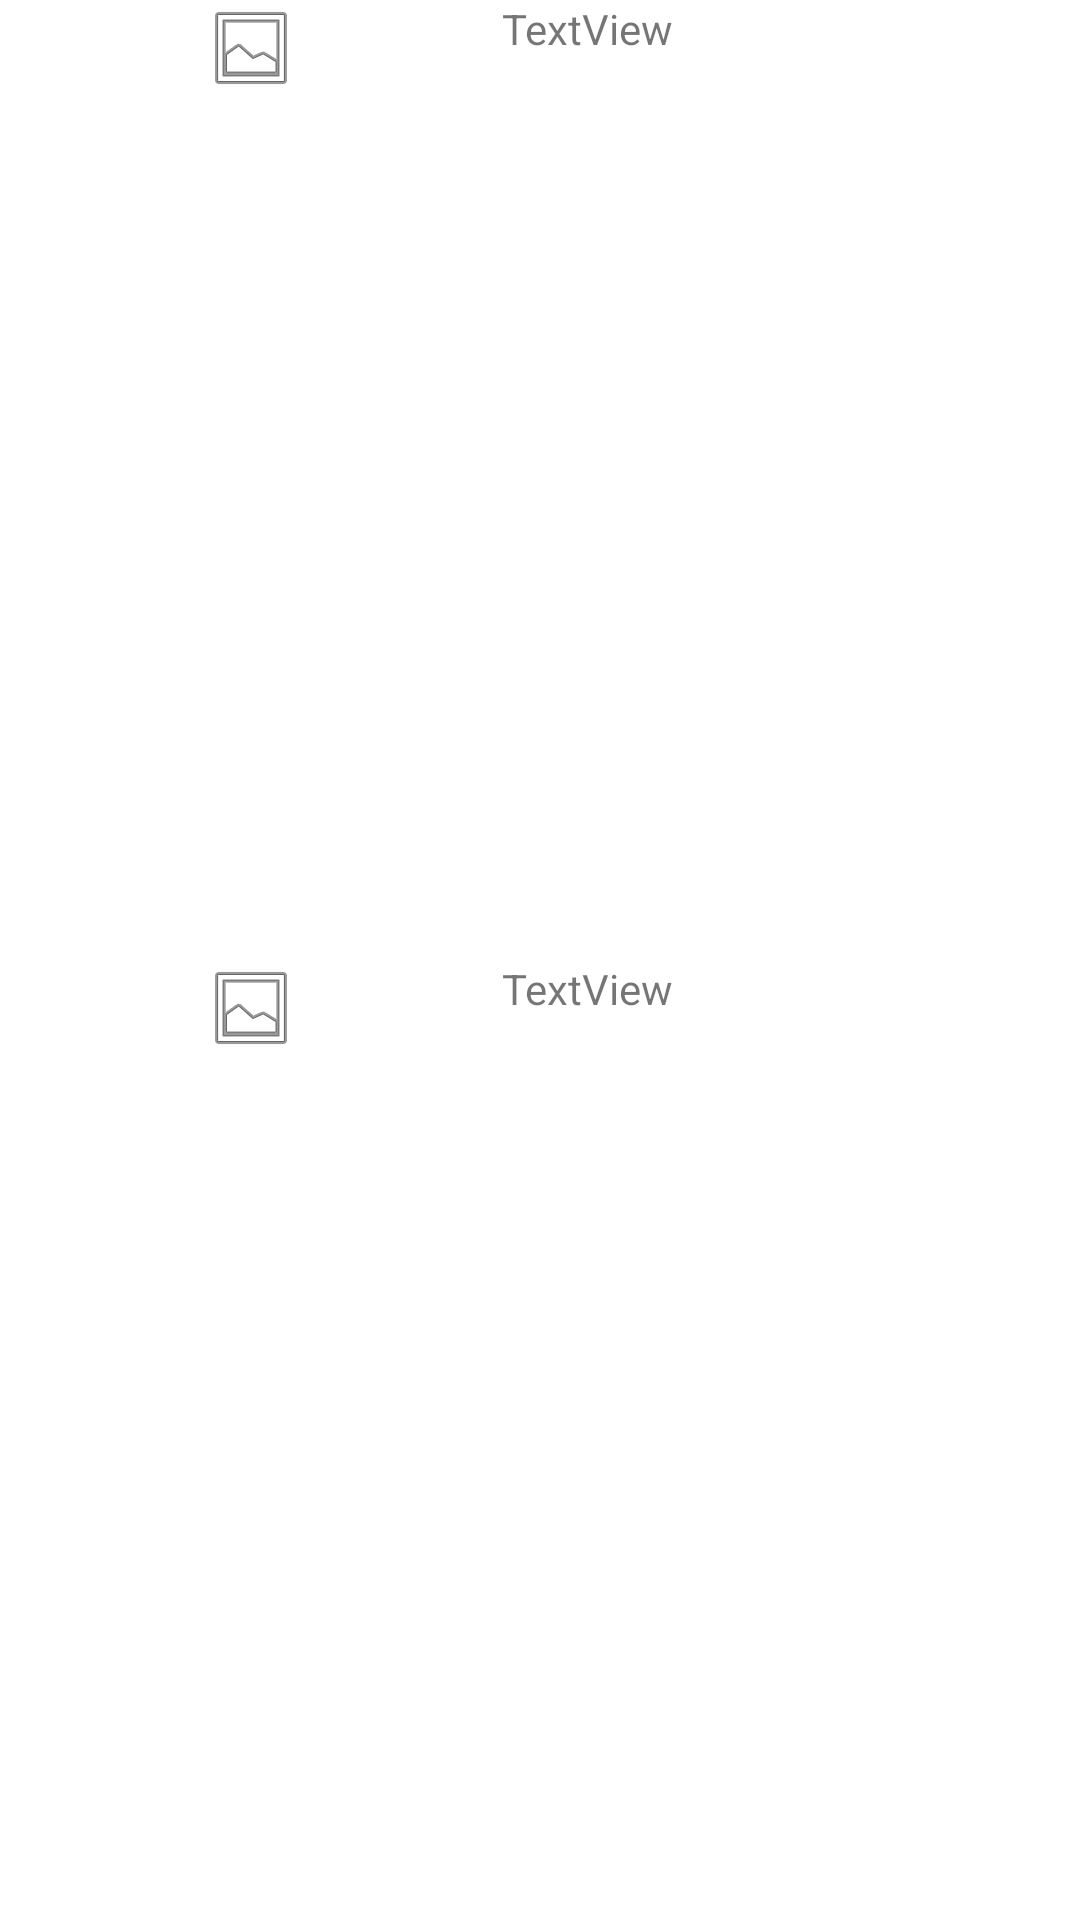

Where icons sit on this 1080 x 1920 app screen, as {"x1": x1, "y1": y1, "x2": x2, "y2": y2}:
gallery: {"x1": 215, "y1": 12, "x2": 287, "y2": 84}, {"x1": 215, "y1": 972, "x2": 287, "y2": 1044}
